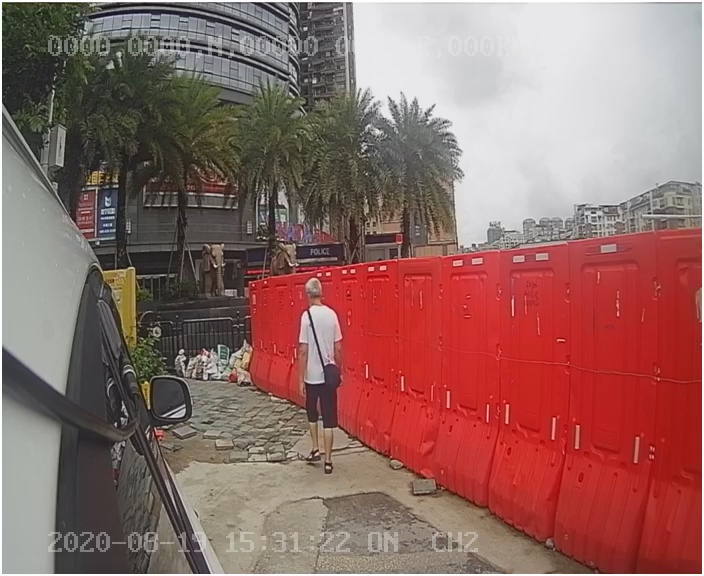person: (289, 272, 365, 477)
